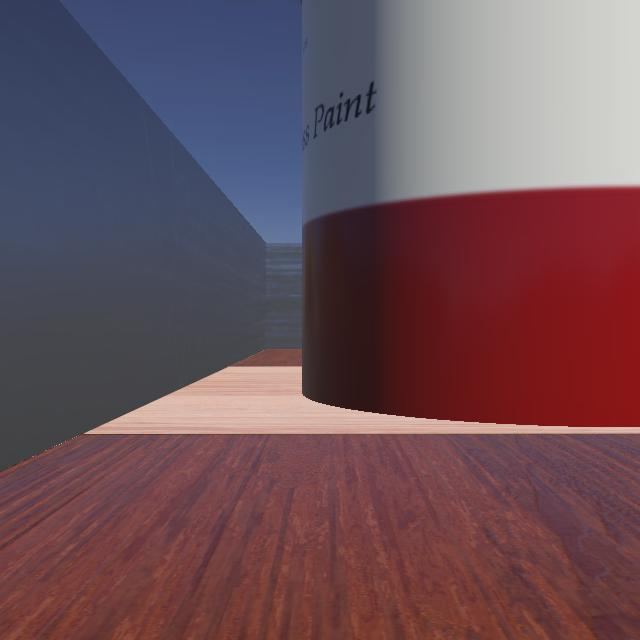paint-bucket: (287, 0, 639, 436)
